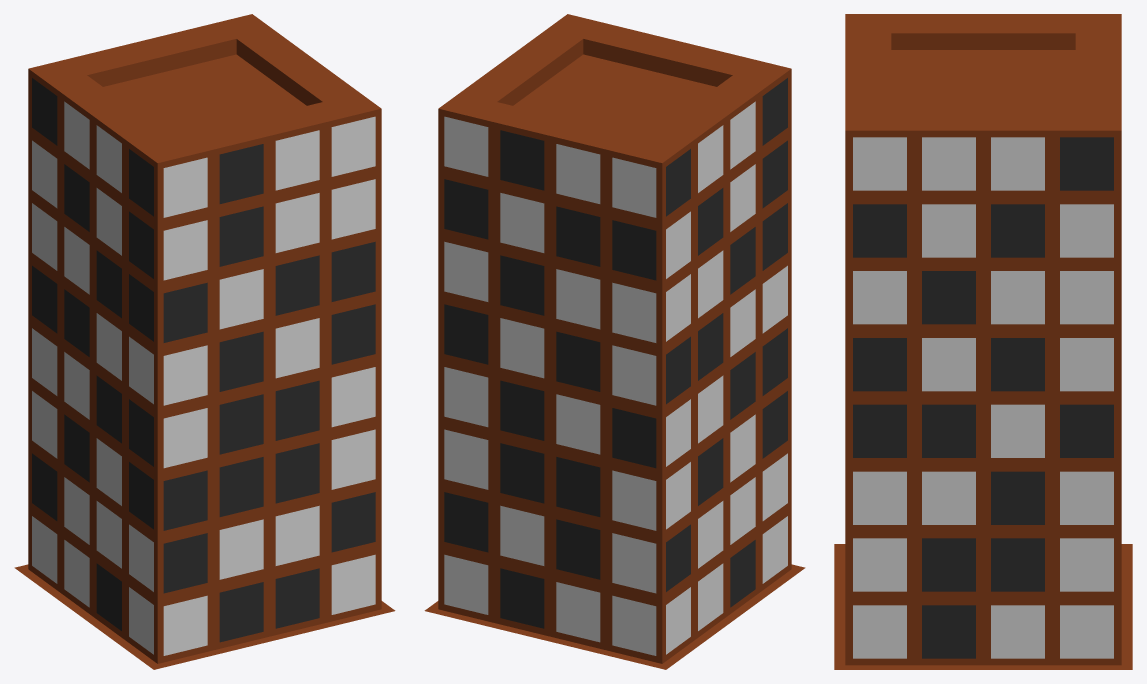
File: BatimentNormal01.fbx
3 renders of one model, left to right at view 1: azimuth 30°, elevation 25°; view 2: azimuth 150°, elevation 25°; view 3: azimuth 270°, elevation 25°, orthographic. The views are drawn at different scales.
Visible parts, largest first — view 1: BatimentNormal2; view 2: BatimentNormal2; view 3: BatimentNormal2.
Boxes of the visible parts, left/top/right/bottom form: BatimentNormal2: left=14, top=14, right=395, bottom=669; BatimentNormal2: left=424, top=14, right=805, bottom=669; BatimentNormal2: left=834, top=14, right=1132, bottom=669.
Bounding box in the file's own units: 1000 × 1978 × 1000.
